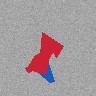hold: (25, 52, 51, 74), (38, 61, 54, 83)
volume: (40, 32, 64, 59)
